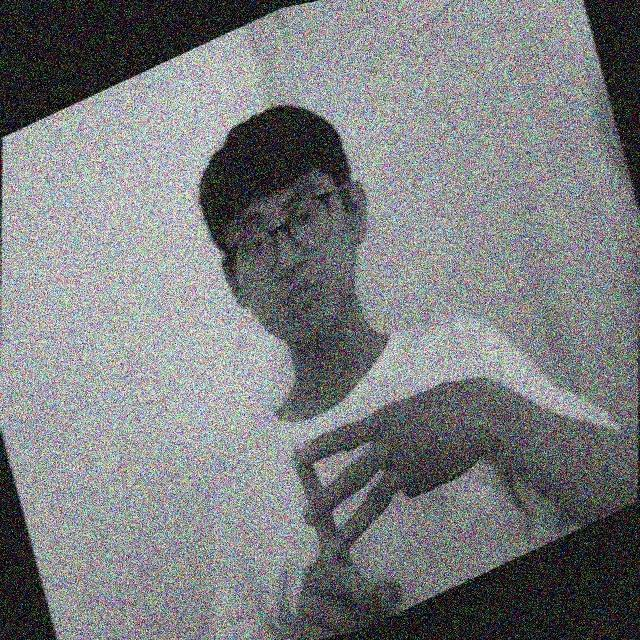B: (270, 374, 492, 574)
